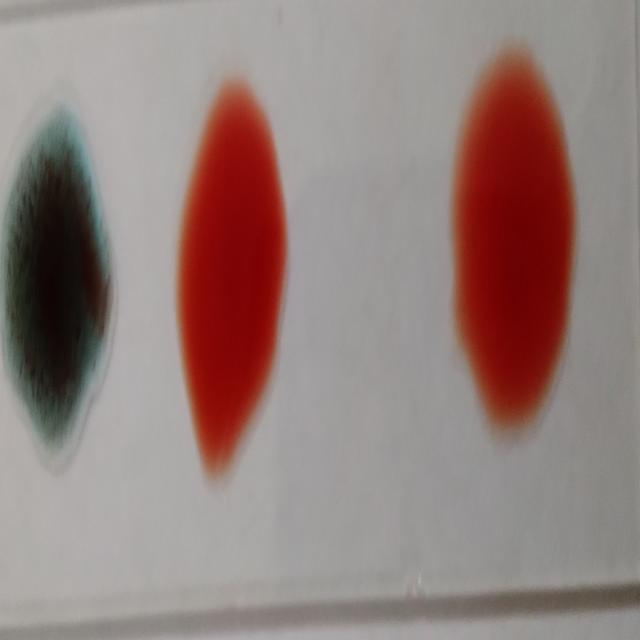A: (8, 124, 110, 451)
